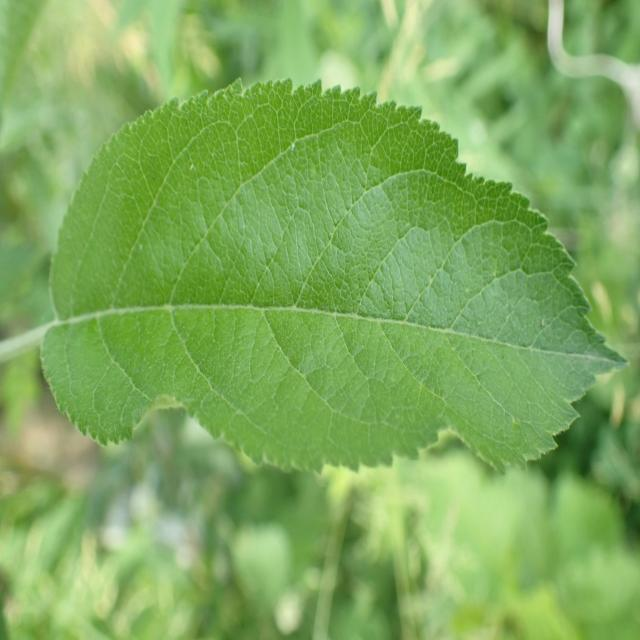healthy: (44, 75, 629, 478)
